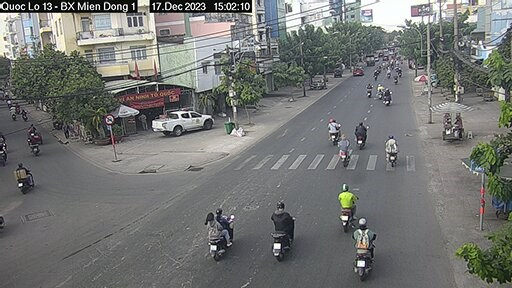car: (138, 103, 230, 145)
motorbike: (347, 210, 382, 275), (267, 197, 295, 264), (331, 178, 362, 237), (203, 206, 231, 258), (378, 121, 401, 170), (316, 112, 340, 146), (331, 130, 351, 163), (354, 112, 369, 150)
